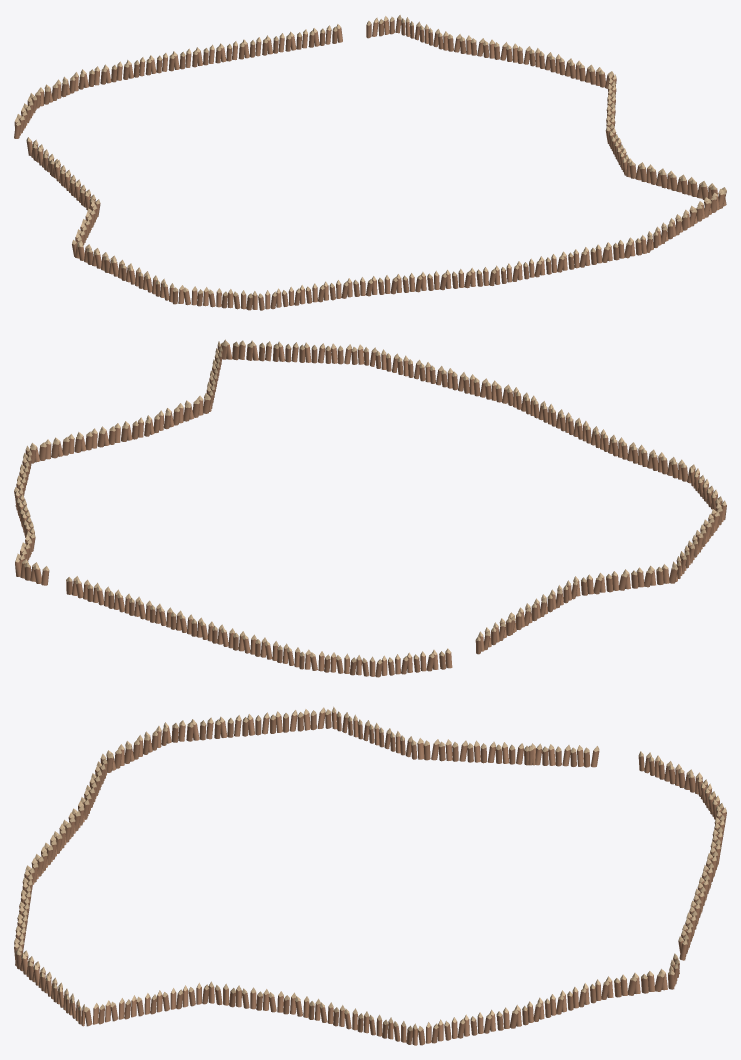
The model's file is Env_Cerca_model.fbx.
The picture shows the model from 3 angles, top to bottom: view 1: azimuth 30°, elevation 25°; view 2: azimuth 150°, elevation 25°; view 3: azimuth 270°, elevation 25°; orthographic projection. The views are drawn at different scales.
Parts seen in each view (by area): view 1: Cercas_02; view 2: Cercas_02; view 3: Cercas_02.
Part boxes in pixels (x1=…): Cercas_02: x1=14, y1=15, x2=726, y2=310; Cercas_02: x1=14, y1=339, x2=726, y2=677; Cercas_02: x1=14, y1=706, x2=726, y2=1045.
Bounding box in the file's own units: 87.39 × 2.61 × 82.
